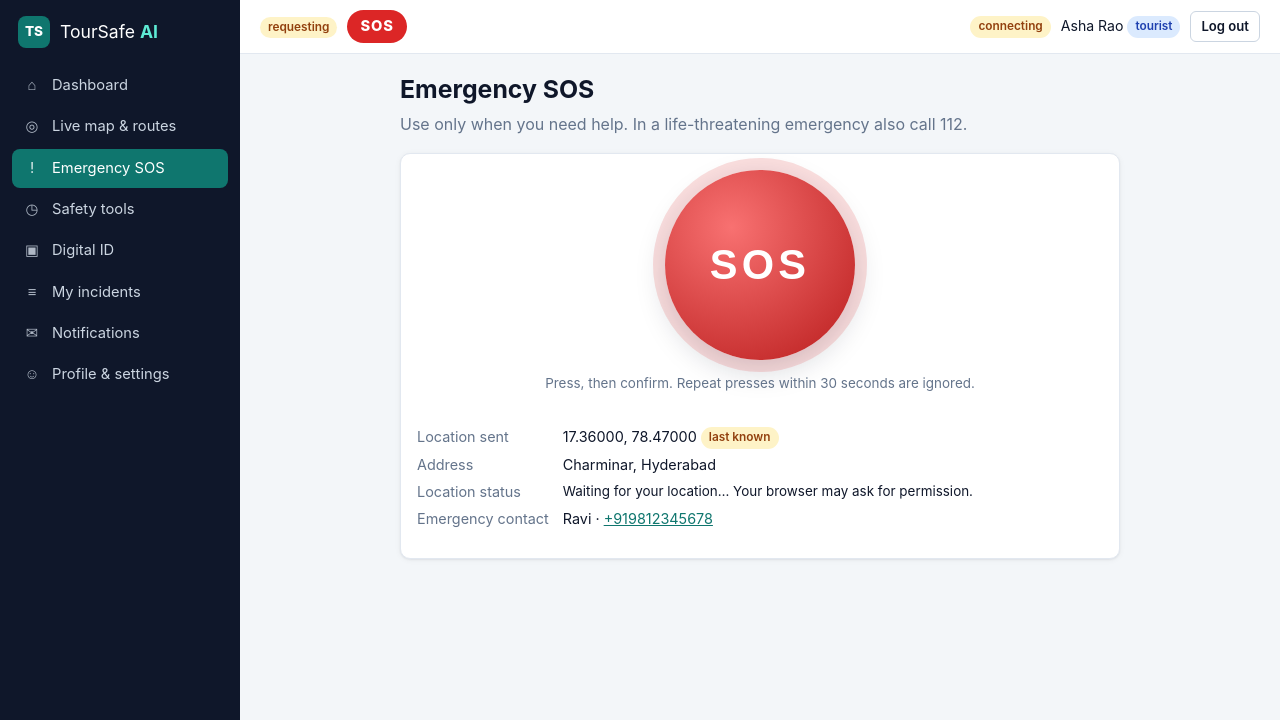
Test case: SOS › never claims success when the server fails
Click the button "SOS": (760, 264) [665, 170, 855, 360]
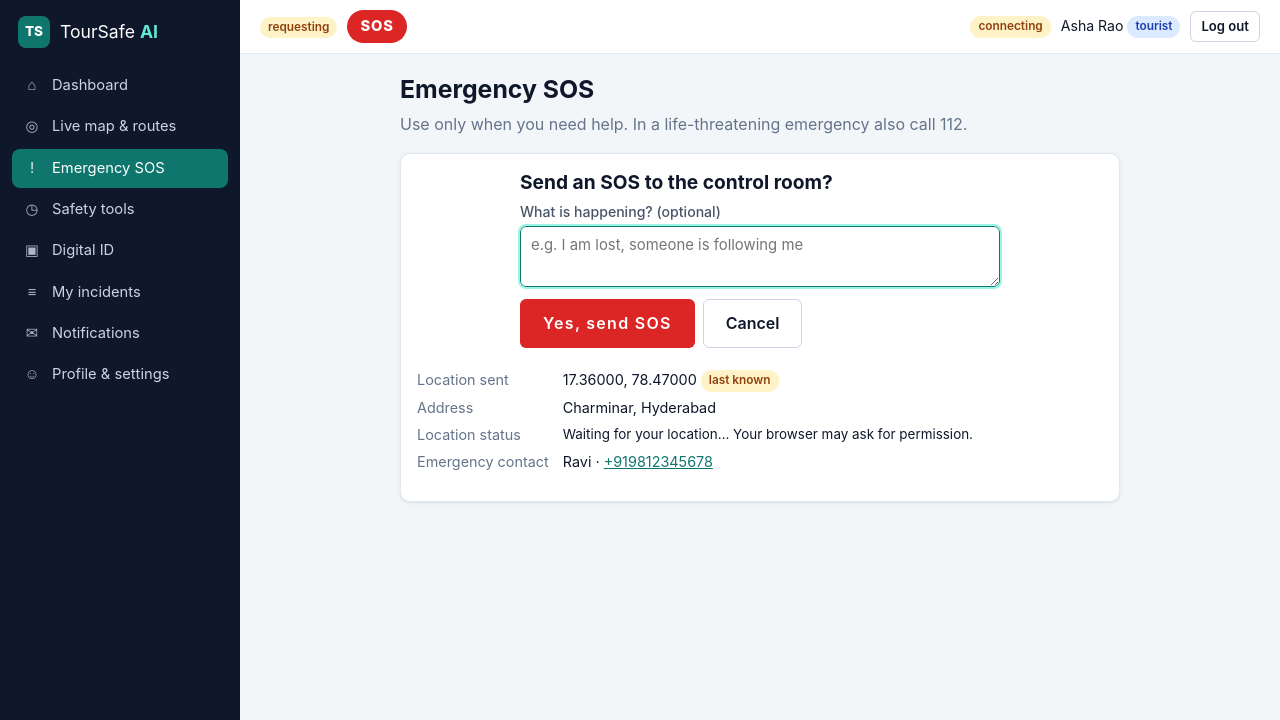
Click the button "Yes, send SOS": (607, 324) [520, 299, 695, 348]
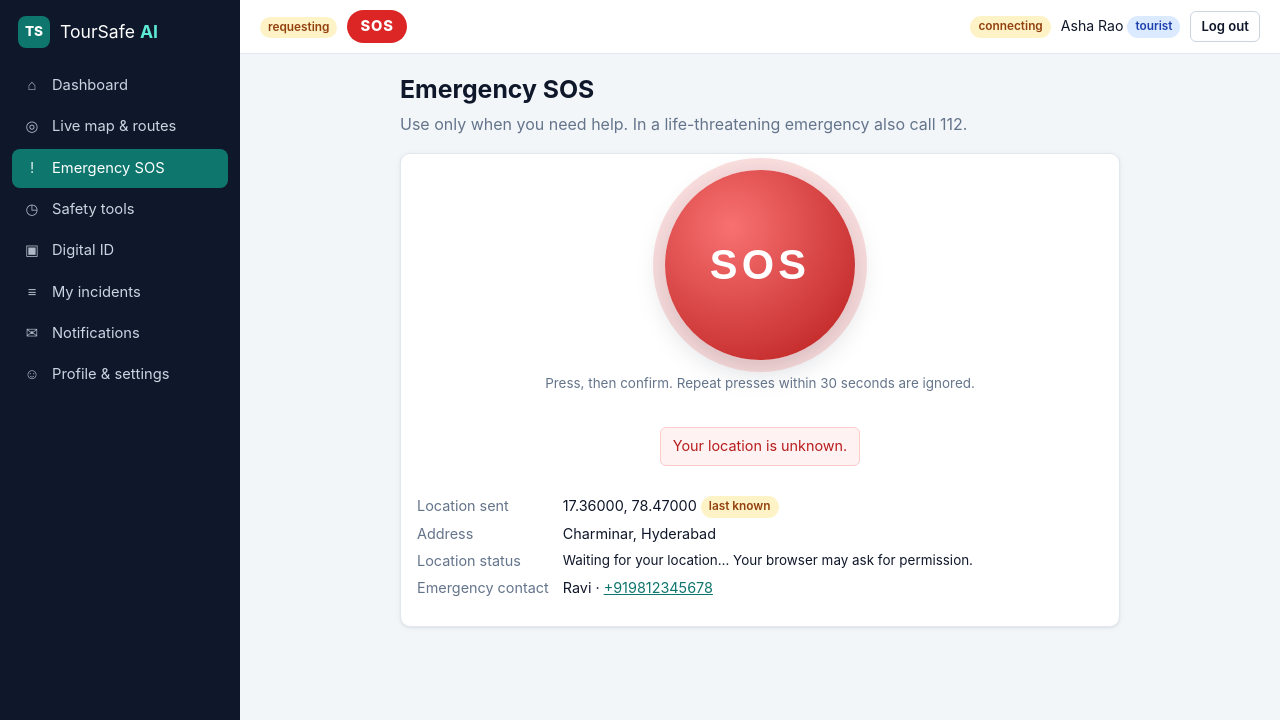
Now the text "Your location is unknown." is shown, box [673, 436, 847, 457]
